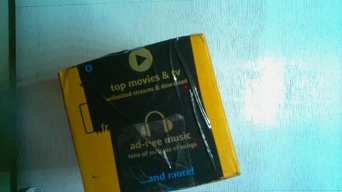a: (54, 33, 244, 192)
